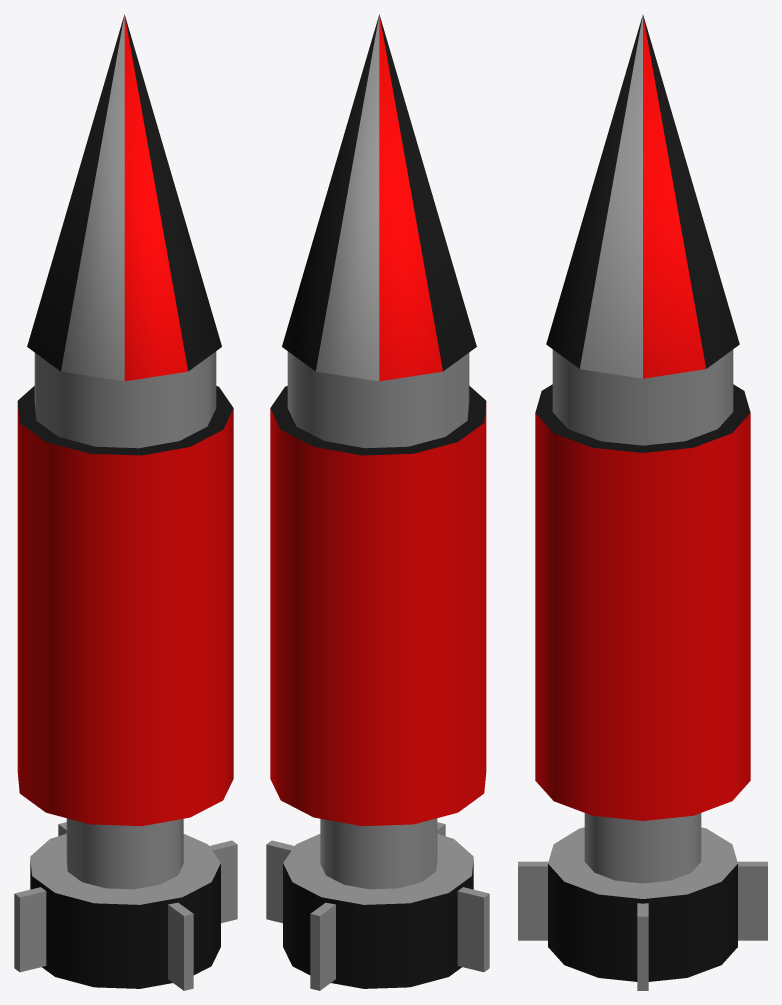
Rendered from missle_rocket.FBX.
3 renders of one model, left to right at view 1: azimuth 30°, elevation 25°; view 2: azimuth 150°, elevation 25°; view 3: azimuth 270°, elevation 25°, orthographic.
Parts seen in each view (by area): view 1: missleRocket; view 2: missleRocket; view 3: missleRocket.
Boxes of the visible parts, bbox=[...] form: missleRocket: bbox=[14, 14, 237, 990]; missleRocket: bbox=[266, 14, 489, 990]; missleRocket: bbox=[518, 15, 767, 990].
Bounding box in the file's own units: 0.2772 × 0.2772 × 1.14.
